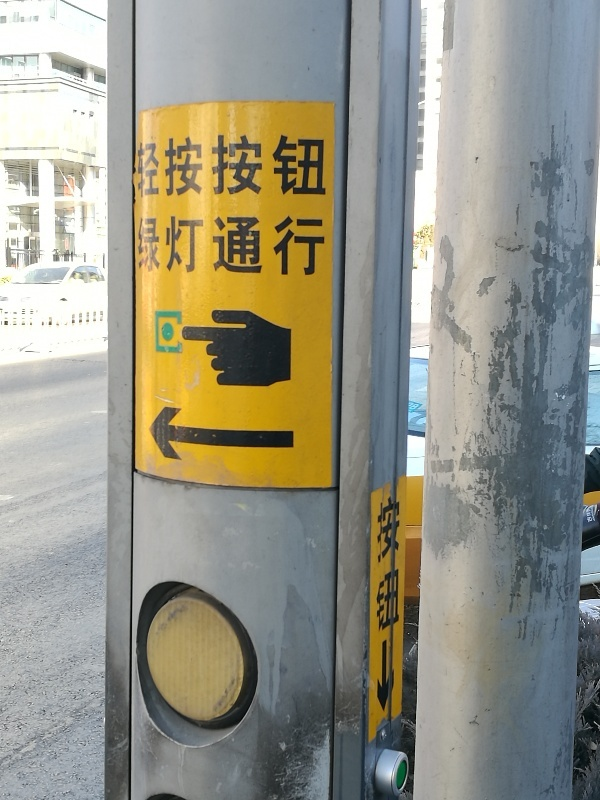text: (385, 496, 401, 633), (376, 496, 384, 633), (145, 131, 160, 199), (161, 131, 176, 199), (177, 131, 192, 199), (193, 131, 208, 199), (209, 131, 224, 199), (225, 131, 240, 199), (241, 131, 256, 199), (257, 131, 272, 199), (273, 131, 288, 199), (289, 131, 304, 199), (305, 131, 320, 199), (145, 215, 160, 277), (161, 215, 176, 277), (177, 215, 192, 277), (193, 215, 208, 277), (209, 215, 224, 277), (225, 215, 240, 277), (241, 215, 256, 277), (257, 215, 272, 277), (273, 215, 288, 277), (289, 215, 304, 277), (305, 215, 320, 277), (135, 131, 144, 199), (321, 131, 330, 199), (137, 215, 144, 277), (321, 215, 326, 277), (586, 507, 592, 523), (593, 505, 596, 522), (591, 505, 592, 522)
